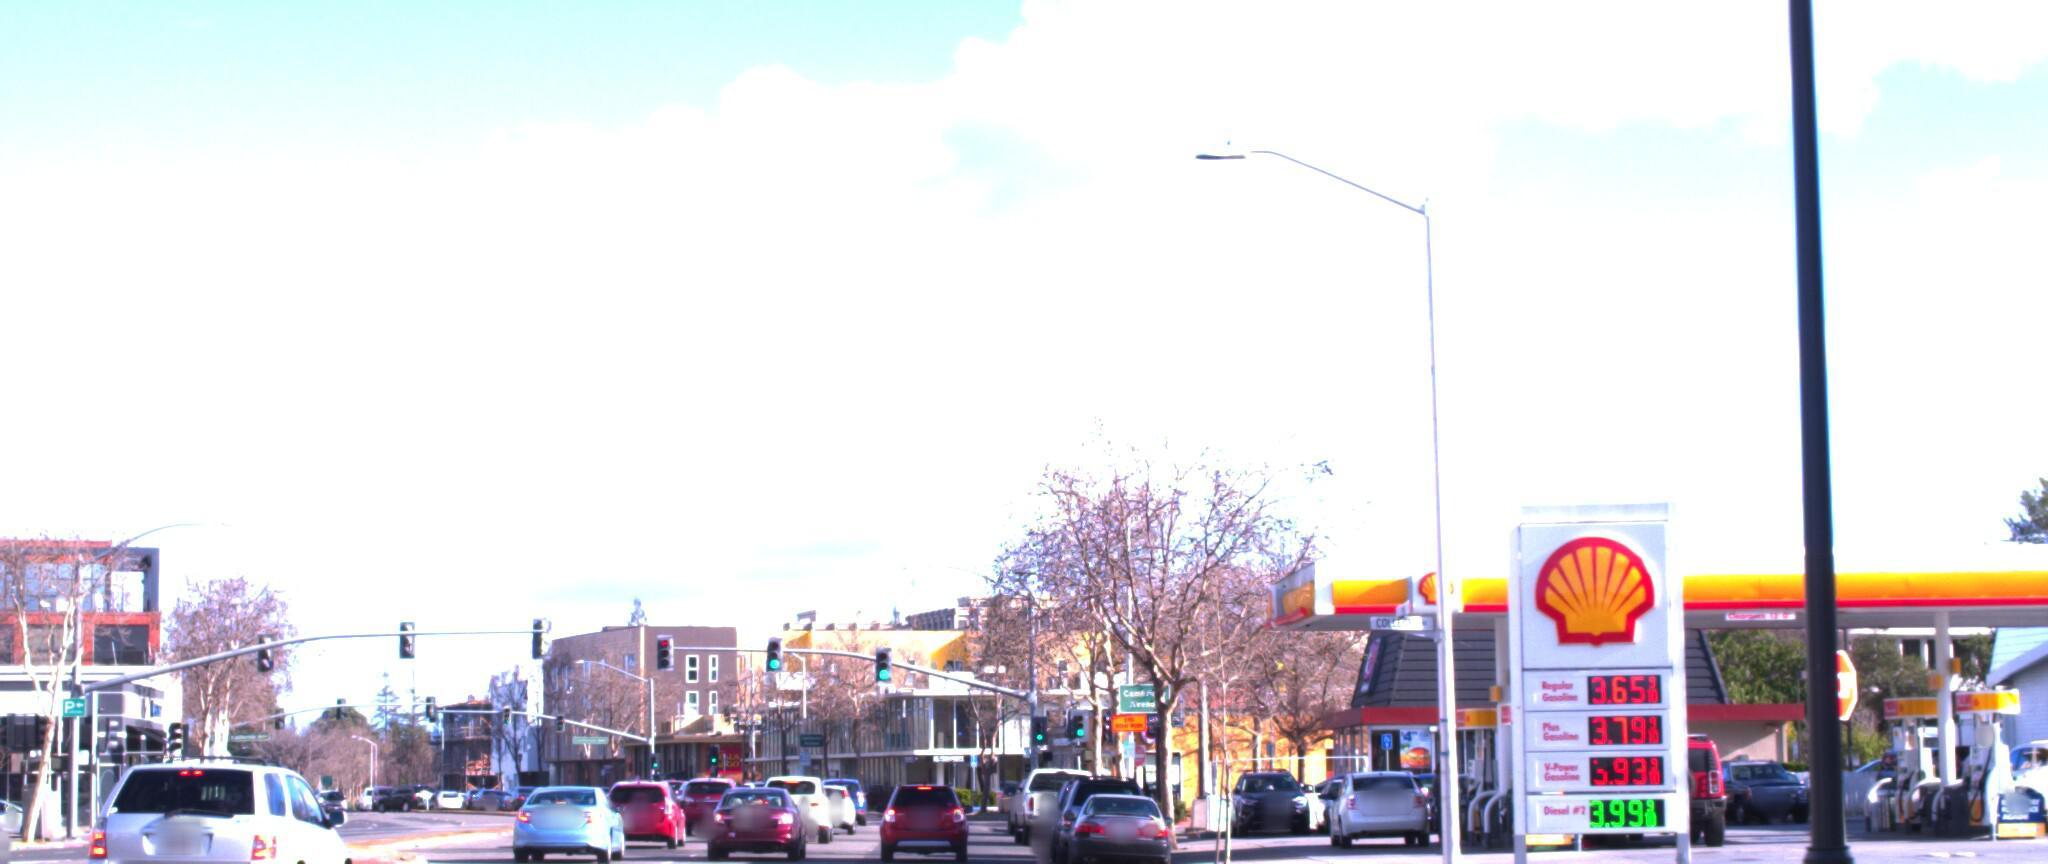car: (80, 739, 371, 864), (1563, 710, 1732, 830), (1061, 767, 1178, 860), (509, 764, 626, 852), (1319, 749, 1435, 837), (713, 762, 811, 847), (876, 760, 967, 844), (1975, 715, 2048, 816), (613, 766, 697, 838), (1224, 750, 1317, 814), (765, 754, 842, 821), (0, 756, 22, 864)
